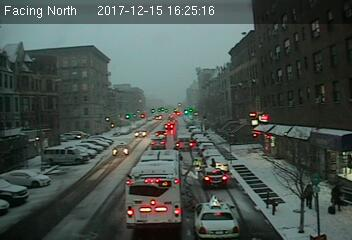bus: (124, 149, 185, 227)
car: (192, 197, 242, 239), (202, 167, 229, 186), (206, 156, 229, 172), (112, 143, 131, 157), (150, 137, 166, 149), (134, 128, 146, 137)
truck: (175, 135, 193, 149)
